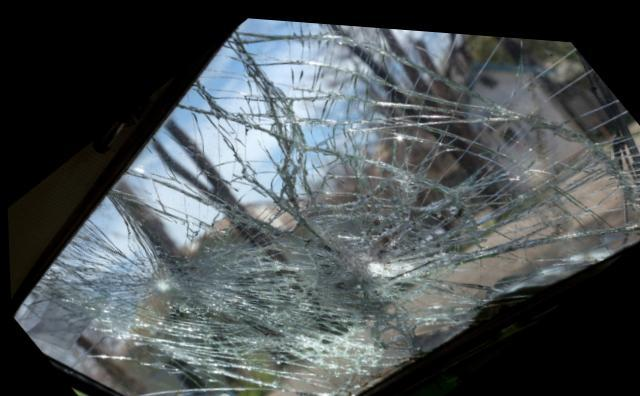glass shatter: (11, 14, 640, 396)
